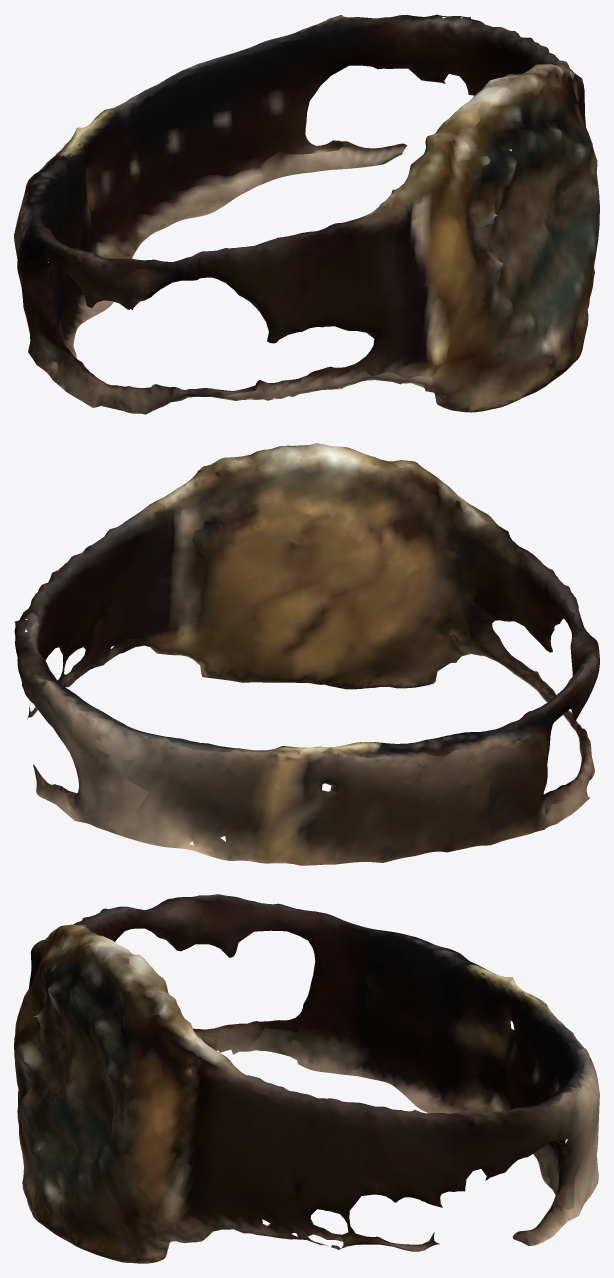
The model's file is Dadwatch.glb.
3 renders of one model, top to bottom at view 1: azimuth 30°, elevation 25°; view 2: azimuth 150°, elevation 25°; view 3: azimuth 270°, elevation 25°, orthographic. The views are drawn at different scales.
Parts seen in each view (by area): view 1: mesh; view 2: mesh; view 3: mesh.
Boxes of the visible parts, x1=… form: mesh: x1=14, y1=14, x2=599, y2=414; mesh: x1=14, y1=443, x2=599, y2=865; mesh: x1=14, y1=894, x2=599, y2=1263.
Size of the model in its own units: 2.33 by 1.16 by 2.24.
Materials: 1 (1 with a texture image).
